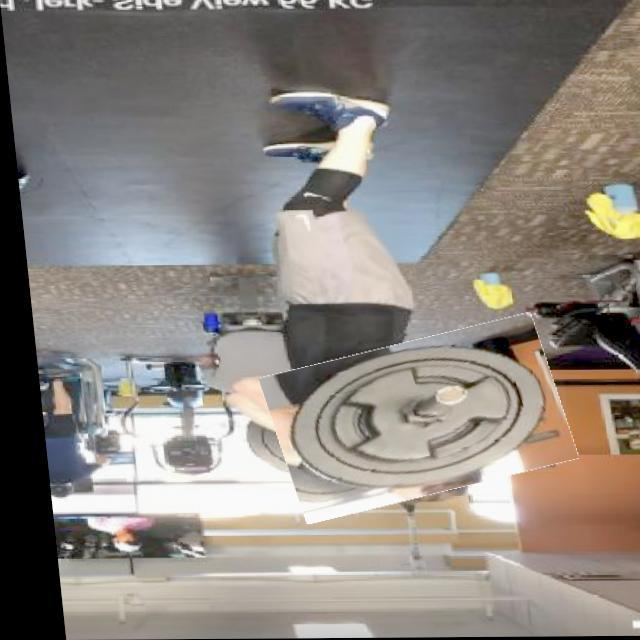barbell: (254, 329, 568, 511)
